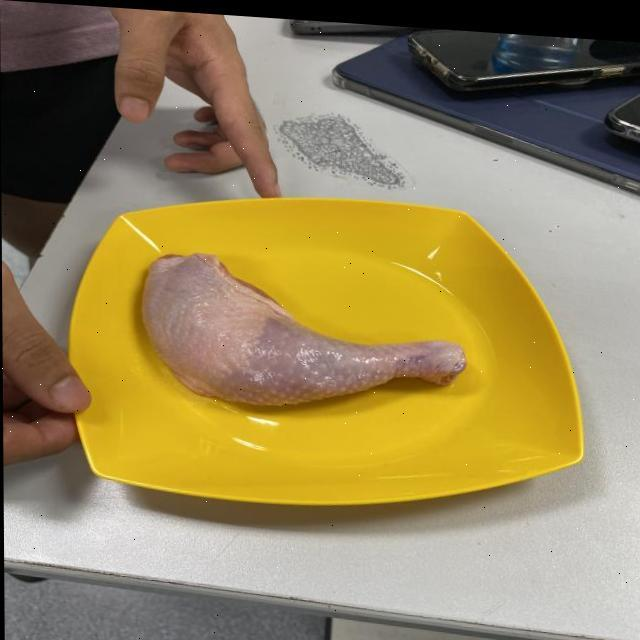quater: (143, 243, 470, 418)
